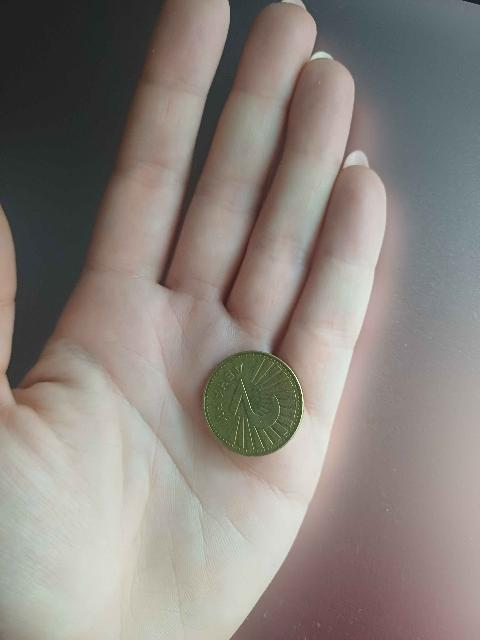2_coin: (203, 351, 303, 455)
